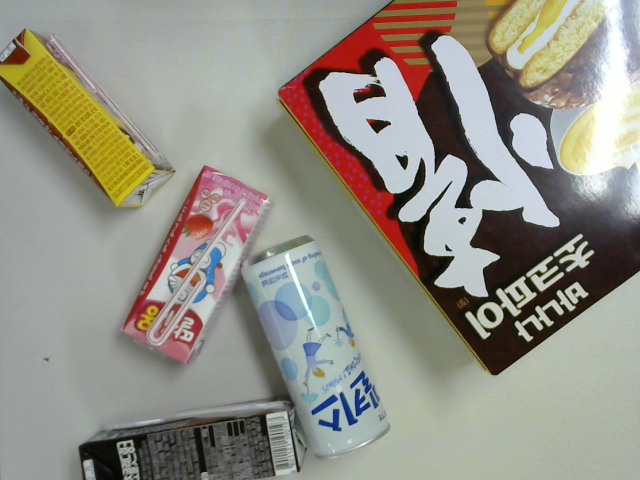Choco_E_Mong: (1, 30, 175, 209)
Choco_Pie_Banana: (276, 1, 640, 377)
Hush_Choco_Drink: (78, 395, 305, 480)
Milkies_250ml: (237, 235, 394, 460)
Strawberry_E_Mong: (121, 166, 272, 364)
